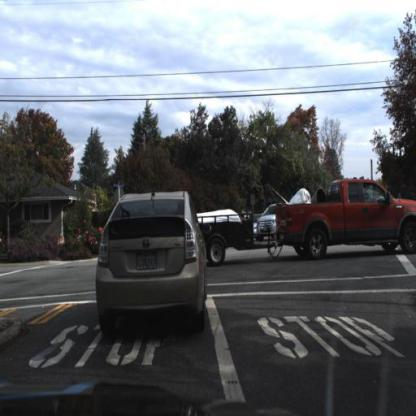car: (207, 179, 416, 263), (95, 188, 208, 340), (260, 204, 281, 240)
